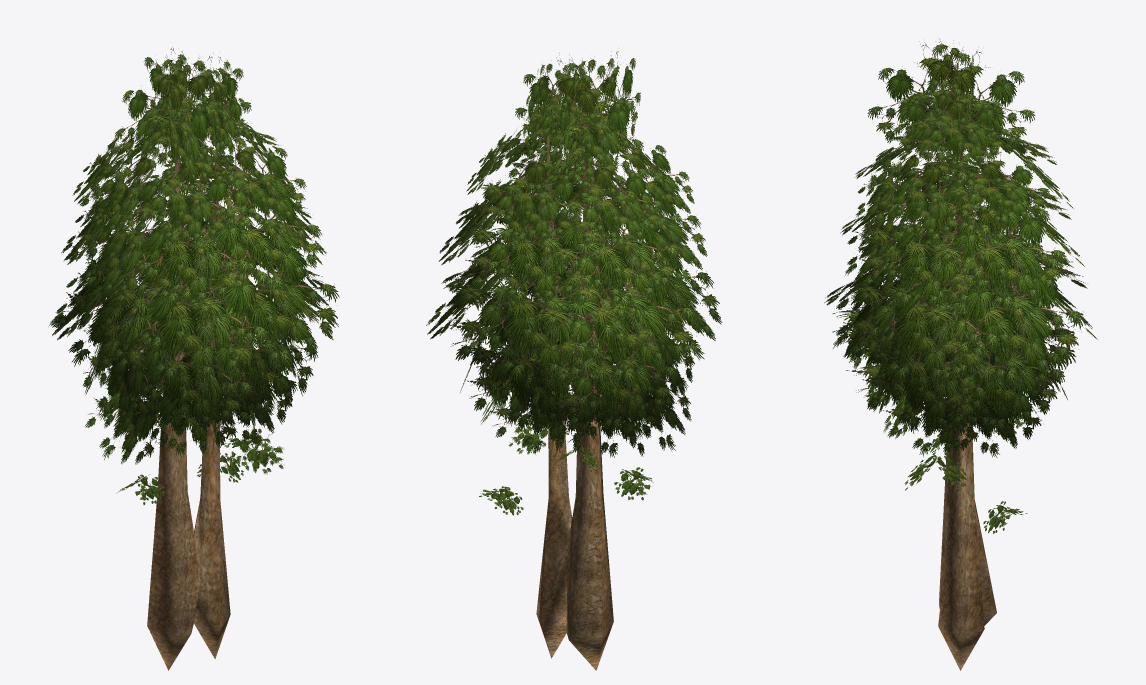
The model's file is decd_endr_blumbush_l2.fbx.
The picture shows the model from 3 angles, left to right: view 1: azimuth 30°, elevation 25°; view 2: azimuth 150°, elevation 25°; view 3: azimuth 270°, elevation 25°; orthographic projection.
Parts seen in each view (by area): view 1: mesh_node; view 2: mesh_node; view 3: mesh_node.
Part boxes in pixels (box(x1,y1,x2,y2)): mesh_node: box(49, 47, 339, 670); mesh_node: box(426, 51, 722, 670); mesh_node: box(824, 39, 1097, 670).
Size of the model in its own units: 26.49 by 50.32 by 25.35.
2 materials, 2 textured.
